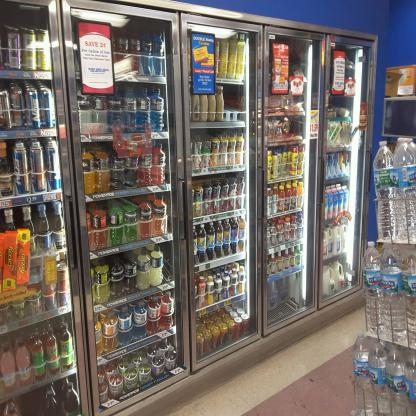Void: (226, 86, 243, 121), (160, 247, 176, 282), (272, 291, 295, 315)
